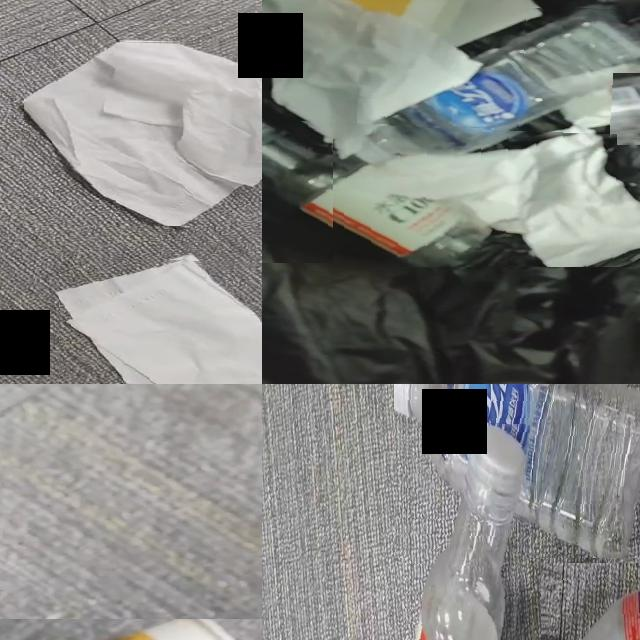bottle: (357, 8, 640, 162), (394, 384, 640, 558), (262, 122, 489, 263), (417, 422, 528, 640)
dixie_cup: (342, 0, 466, 34)
paper: (24, 42, 262, 226), (333, 131, 640, 267), (262, 0, 484, 157), (59, 261, 262, 384), (555, 60, 640, 124), (445, 0, 542, 44)
